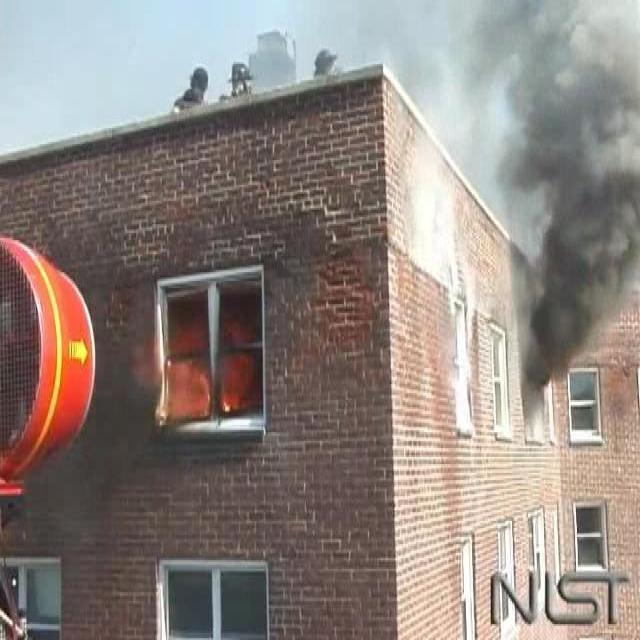Smoke: (462, 0, 640, 428)
